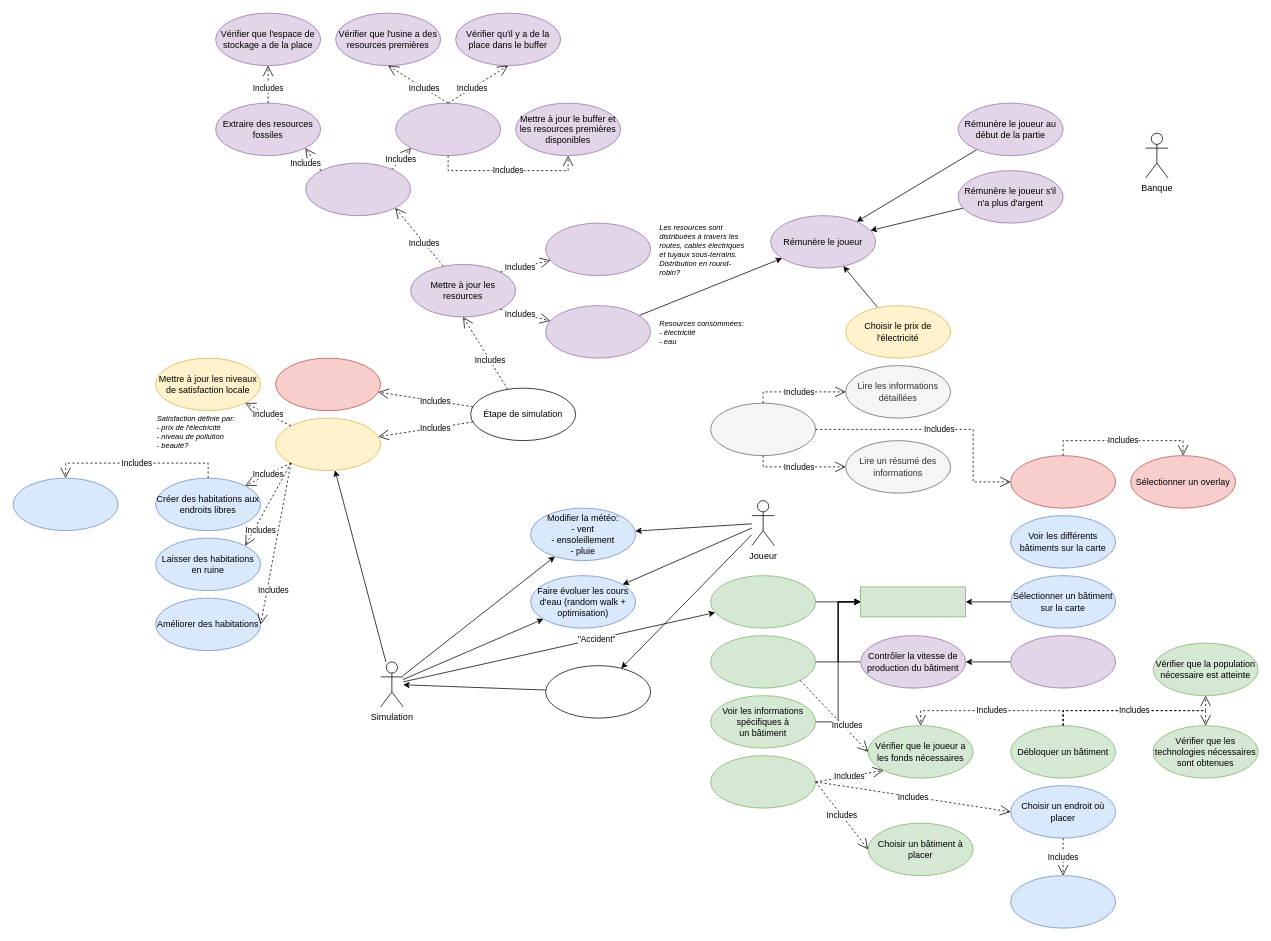
Some shapes in this 1271 by 941 pixel diagram are drawn without their labels. Each missing label, with the centre of its shape:
"Améliorer un bâtiment" goes at (763,661).
"Connaître les informations de la ville" goes at (763,429).
"Consommer les resources (habitants)" goes at (598,331).
"Distribuer les resources" goes at (598,249).
"Définir la difficulté" goes at (598,691).
"Faire immigrer/émigrer de la population" goes at (328,444).
"Interface du bâtiment" goes at (913,601).
"Mettre à jour les niveaux de pollution (NCA)" goes at (328,384).
"Placer un bâtiment" goes at (763,781).
"Produire de l'électricité" goes at (448,129).
"Produire des resources" goes at (358,189).
"Supprimer un bâtiment" goes at (763,601).
"Voir les niveaux de pollution, d'approvisionnement en énergie, etc." goes at (1063,481).
"Vérifier la disponibilité des zones" goes at (65,504).
"Vérifier que l'endroit choisi correspond à la resource du bâtiment" goes at (1063,901).
"Équilibrer la production avec la consommation" goes at (1063,661).
